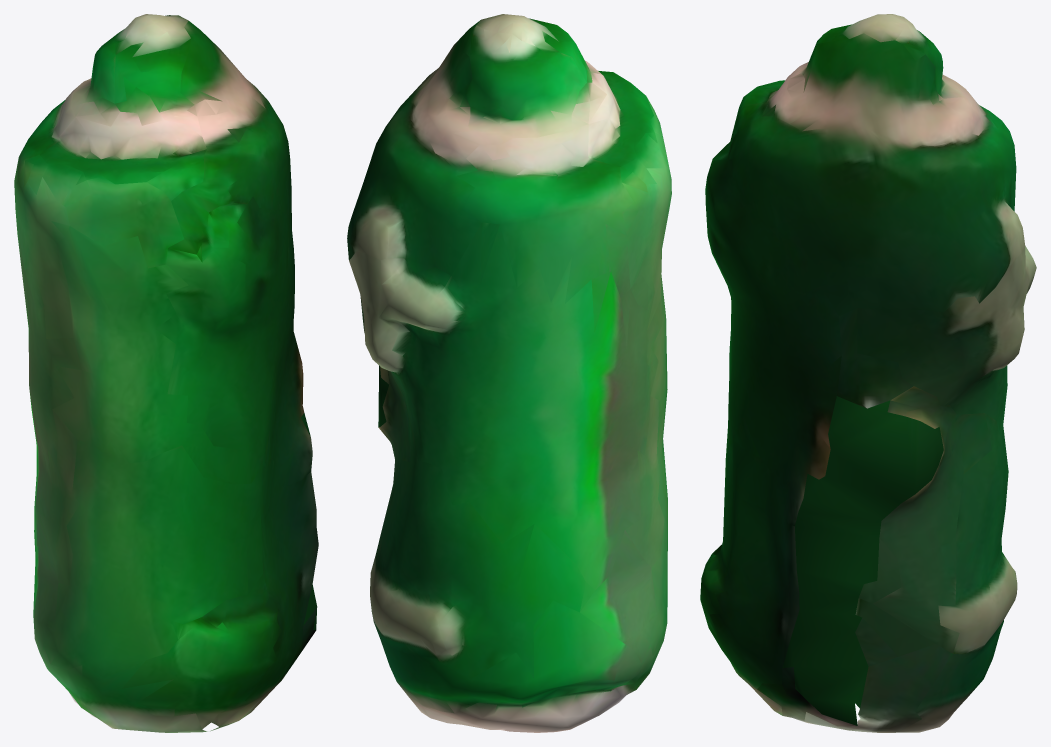
Rendered from katie_battery.glb.
3 renders of one model, left to right at view 1: azimuth 30°, elevation 25°; view 2: azimuth 150°, elevation 25°; view 3: azimuth 270°, elevation 25°, orthographic. The views are drawn at different scales.
Visible parts, largest first — view 1: Mesh_0.001; view 2: Mesh_0.001; view 3: Mesh_0.001.
Boxes of the visible parts, box(x1,y1,x2,y2) form: Mesh_0.001: box(14, 14, 318, 732); Mesh_0.001: box(347, 14, 671, 732); Mesh_0.001: box(700, 14, 1036, 732).
Size of the model in its own units: 0.3907 by 0.9699 by 0.4323.
Materials: 1 (1 with a texture image).
